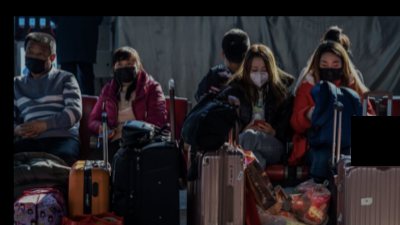with_mask: (24, 44, 50, 73), (113, 58, 137, 83), (317, 58, 342, 80), (249, 64, 268, 86)
